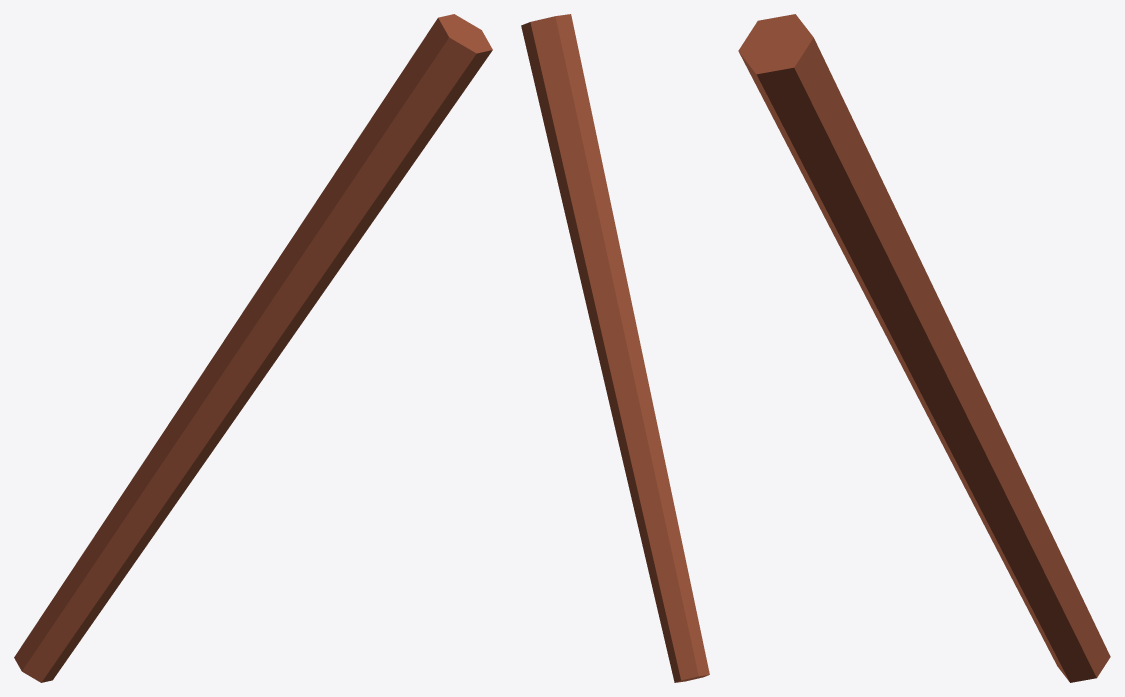
Rendered from rm2_leg_rr_tibia.obj.
3 renders of one model, left to right at view 1: azimuth 30°, elevation 25°; view 2: azimuth 150°, elevation 25°; view 3: azimuth 270°, elevation 25°, orthographic. The views are drawn at different scales.
Parts seen in each view (by area): view 1: rm2_leg_rr_tibia; view 2: rm2_leg_rr_tibia; view 3: rm2_leg_rr_tibia.
Boxes of the visible parts, x1,y1,x2,y2 form: rm2_leg_rr_tibia: (14,14,492,682); rm2_leg_rr_tibia: (521,14,709,682); rm2_leg_rr_tibia: (738,14,1110,682).
Size of the model in its own units: 0.4236 by 0.79 by 0.32.
